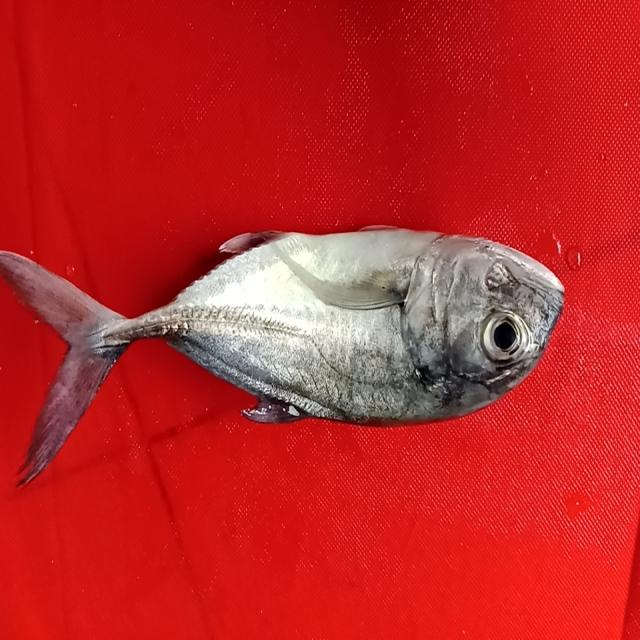ikan: (5, 179, 579, 497)
